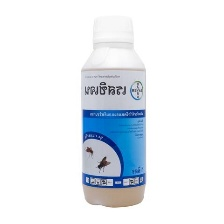insecticide: (77, 11, 148, 209)
